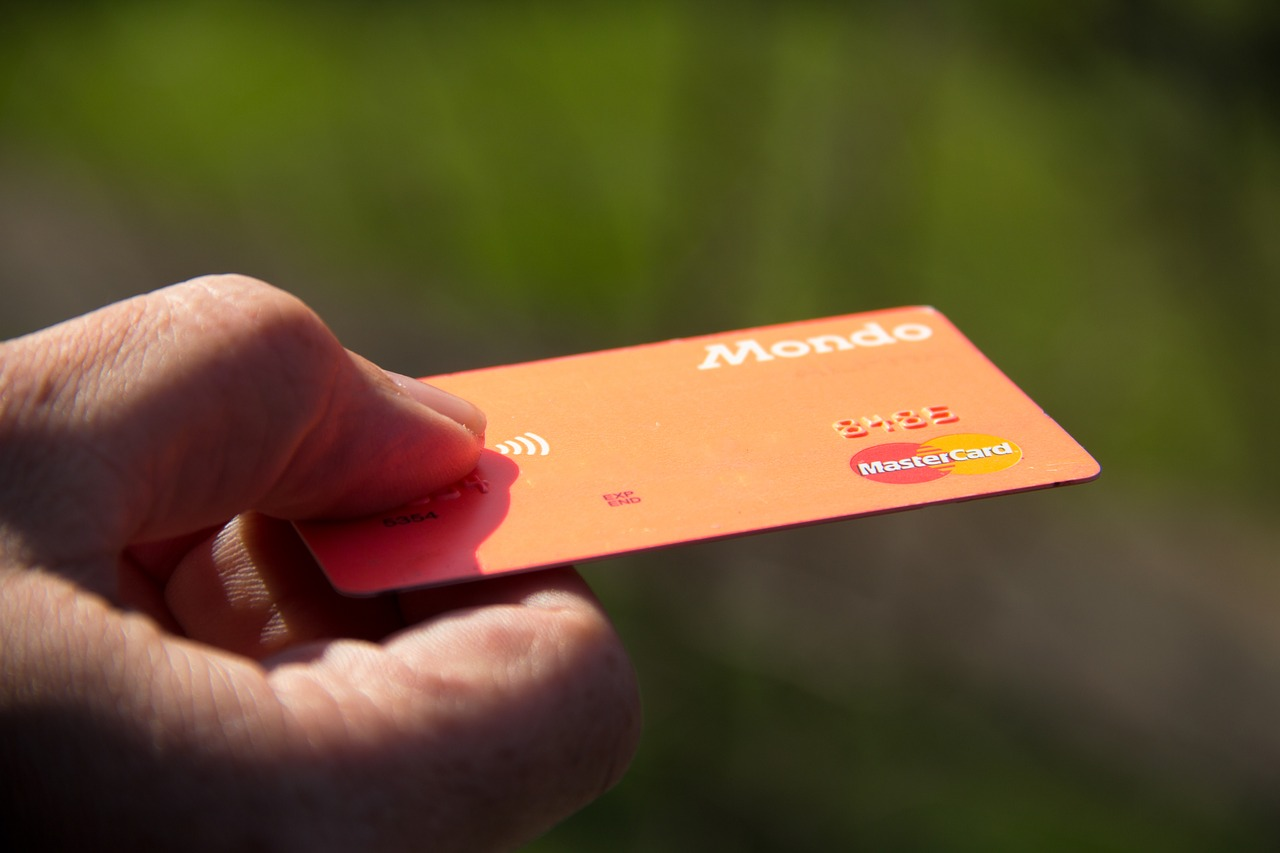tarjeta: (289, 305, 1103, 596)
